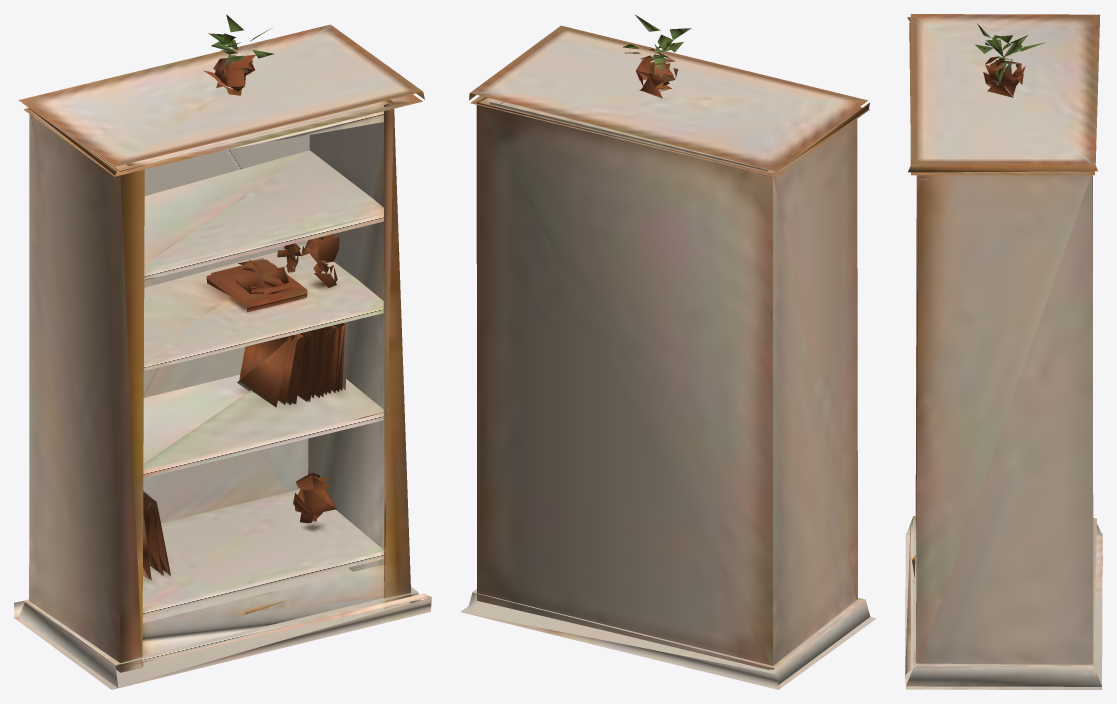
The model's file is keepsake-shelf.lod1.glb.
3 renders of one model, left to right at view 1: azimuth 30°, elevation 25°; view 2: azimuth 150°, elevation 25°; view 3: azimuth 270°, elevation 25°, orthographic.
Parts seen in each view (by area): view 1: keepsake-shelf_lod1; view 2: keepsake-shelf_lod1; view 3: keepsake-shelf_lod1.
Part boxes in pixels (x1,y1,x2,y2): keepsake-shelf_lod1: [14, 14, 431, 689]; keepsake-shelf_lod1: [460, 14, 876, 689]; keepsake-shelf_lod1: [905, 14, 1102, 689].
Size of the model in its own units: 0.9152 by 1.6 by 0.4874.
1 material, 1 textured.
